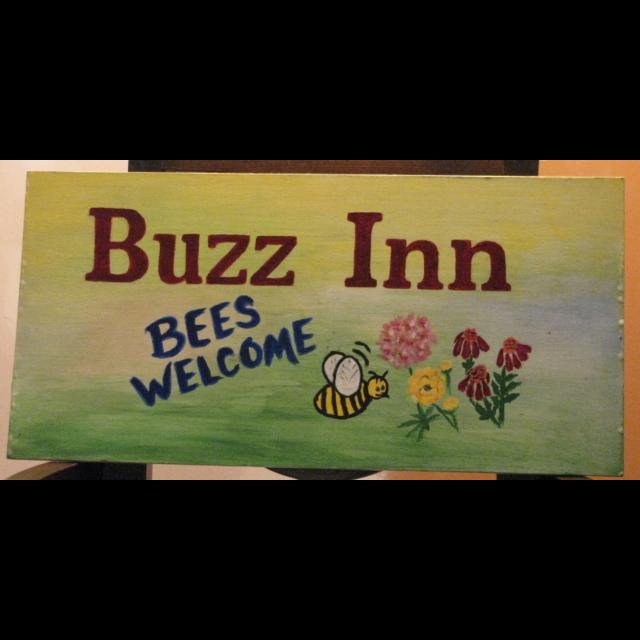Flower: (375, 306, 445, 366), (406, 366, 446, 406), (454, 326, 491, 360), (498, 336, 530, 372), (460, 364, 492, 398), (441, 394, 461, 414), (439, 360, 453, 372)
